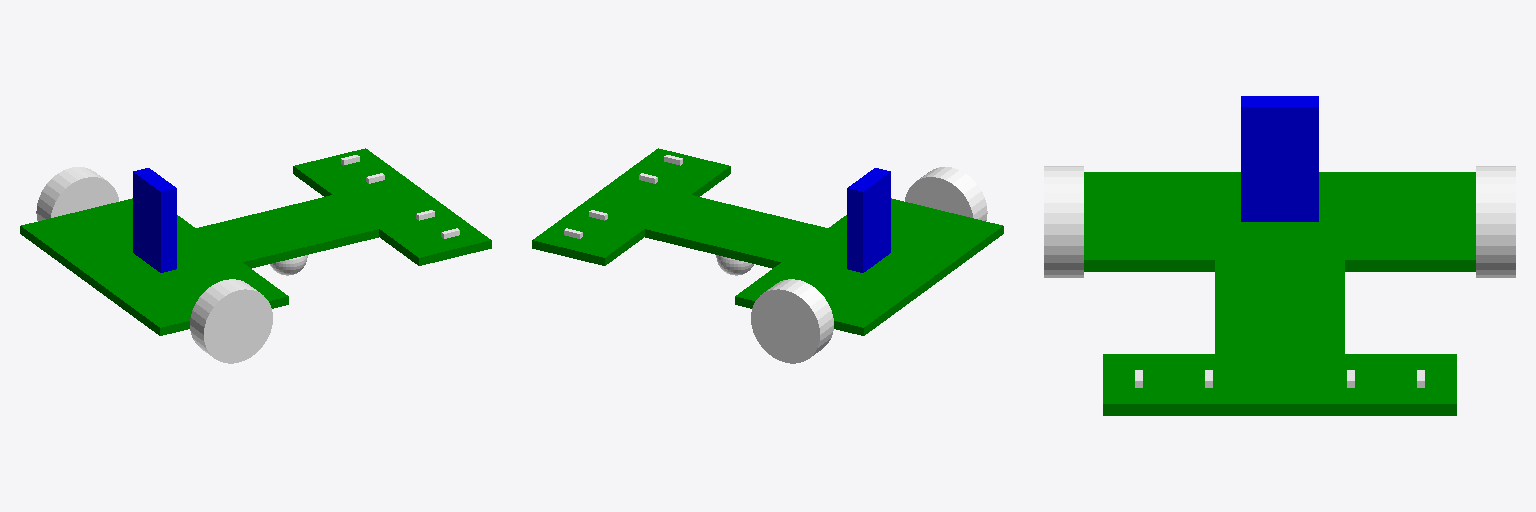
URDF robot description (FLF):
<?xml version="1.0" ?>
<!-- =================================================================================== -->
<!-- |    This document was autogenerated by xacro from [local-path]/line_follower_ws/src/line_follower_robot/urdf/robot.urdf.xacro | -->
<!-- |    EDITING THIS FILE BY HAND IS NOT RECOMMENDED                                 | -->
<!-- =================================================================================== -->
<robot name="FLF">
  <material name="grey">
    <color rgba="0.7 0.7 0.7 1"/>
  </material>
  <material name="green">
    <color rgba="0 0.6 0.0 1"/>
  </material>
  <material name="white">
    <color rgba="1 1 1 1"/>
  </material>
  <!-- Base Footprint Link -->
  <link name="base_footprint"/>
  <!-- Base Link -->
  <link name="base_link">
    <visual>
      <geometry>
        <box size="1.44 2.6999999999999997 0.09"/>
      </geometry>
      <origin rpy="0 0 0" xyz="0 0 0"/>
      <material name="green"/>
    </visual>
    <collision>
      <geometry>
        <box size="1.44 2.6999999999999997 0.09"/>
      </geometry>
      <origin rpy="0 0 0" xyz="0 0 0"/>
    </collision>
    <inertial>
      <mass value="2.0"/>
      <origin rpy="0 0 0" xyz="0 0 0"/>
      <inertia ixx="0.01" ixy="0.0" ixz="0.0" iyy="0.01" iyz="0.0" izz="0.01"/>
    </inertial>
  </link>
  <!-- test -->
  <link name="test_link">
    <visual>
      <geometry>
        <box size="0.18 0.54 0.8999999999999999"/>
      </geometry>
      <material name="blue">
        <color rgba="0 0 1 1"/>
      </material>
    </visual>
  </link>
  <!-- test -->
  <!-- Neck Link -->
  <link name="neck_link">
    <visual>
      <geometry>
        <box size="1.53 0.8999999999999999 0.09"/>
      </geometry>
      <origin rpy="0 0 0" xyz="0 0 0"/>
      <material name="green"/>
    </visual>
    <collision>
      <geometry>
        <box size="1.53 0.8999999999999999 0.09"/>
      </geometry>
      <origin rpy="0 0 0" xyz="0 0 0"/>
    </collision>
    <inertial>
      <mass value="2.0"/>
      <origin rpy="0 0 0" xyz="0 0 0"/>
      <inertia ixx="0.01" ixy="0.0" ixz="0.0" iyy="0.01" iyz="0.0" izz="0.01"/>
    </inertial>
  </link>
  <!-- IR Sensor Link -->
  <link name="ir_link">
    <visual>
      <geometry>
        <box size="0.8099999999999999 2.4299999999999997 0.09"/>
      </geometry>
      <origin rpy="0 0 0" xyz="0 0 0"/>
      <material name="green"/>
    </visual>
    <collision>
      <geometry>
        <box size="0.8099999999999999 2.4299999999999997 0.09"/>
      </geometry>
      <origin rpy="0 0 0" xyz="0 0 0"/>
    </collision>
    <inertial>
      <mass value="2.0"/>
      <origin rpy="0 0 0" xyz="0 0 0"/>
      <inertia ixx="0.01" ixy="0.0" ixz="0.0" iyy="0.01" iyz="0.0" izz="0.01"/>
    </inertial>
  </link>
  <!-- IR Sensor 1 -->
  <link name="ir_sensor_1">
    <visual>
      <geometry>
        <box size="0.18 0.054 0.054"/>
      </geometry>
      <origin rpy="0 0 0" xyz="0.0 0 0"/>
      <material name="white"/>
    </visual>
    <collision>
      <geometry>
        <box size="0.18 0.054 0.054"/>
      </geometry>
      <origin rpy="0 0 0" xyz="0.09 0 0"/>
    </collision>
    <inertial>
      <mass value="0.1"/>
      <origin xyz="0 0 0"/>
      <inertia ixx="0.0001" ixy="0" ixz="0" iyy="0.0001" iyz="0" izz="0.0001"/>
    </inertial>
  </link>
  <link name="ir_sensor_2">
    <visual>
      <geometry>
        <box size="0.18 0.054 0.054"/>
      </geometry>
      <origin rpy="0 0 0" xyz="0.0 0 0.09"/>
      <material name="white"/>
    </visual>
    <collision>
      <geometry>
        <box size="0.18 0.054 0.054"/>
      </geometry>
      <origin rpy="0 0 0" xyz="0 0 0"/>
    </collision>
    <inertial>
      <mass value="0.1"/>
      <origin xyz="0 0 0"/>
      <inertia ixx="0.0001" ixy="0" ixz="0" iyy="0.0001" iyz="0" izz="0.0001"/>
    </inertial>
  </link>
  <link name="ir_sensor_3">
    <visual>
      <geometry>
        <box size="0.18 0.054 0.054"/>
      </geometry>
      <origin rpy="0 0 0" xyz="0.0 0 0.09"/>
      <material name="white"/>
    </visual>
    <collision>
      <geometry>
        <box size="0.18 0.054 0.054"/>
      </geometry>
      <origin rpy="0 0 0" xyz="0 0 0"/>
    </collision>
    <inertial>
      <mass value="0.1"/>
      <origin xyz="0 0 0"/>
      <inertia ixx="0.0001" ixy="0" ixz="0" iyy="0.0001" iyz="0" izz="0.0001"/>
    </inertial>
  </link>
  <link name="ir_sensor_4">
    <visual>
      <geometry>
        <box size="0.18 0.054 0.054"/>
      </geometry>
      <origin rpy="0 0 0" xyz="0.0 0 0.09"/>
      <material name="white"/>
    </visual>
    <collision>
      <geometry>
        <box size="0.18 0.054 0.054"/>
      </geometry>
      <origin rpy="0 0 0" xyz="0 0 0"/>
    </collision>
    <inertial>
      <mass value="0.1"/>
      <origin xyz="0 0 0"/>
      <inertia ixx="0.0001" ixy="0" ixz="0" iyy="0.0001" iyz="0" izz="0.0001"/>
    </inertial>
  </link>
  <link name="ir_sensor_5">
    <visual>
      <geometry>
        <box size="0.18 0.054 0.054"/>
      </geometry>
      <origin rpy="0 0 0" xyz="0.0 0 0.09"/>
      <material name="white"/>
    </visual>
    <collision>
      <geometry>
        <box size="0.18 0.054 0.054"/>
      </geometry>
      <origin rpy="0 0 0" xyz="0 0 0"/>
    </collision>
    <inertial>
      <mass value="0.1"/>
      <origin xyz="0 0 0"/>
      <inertia ixx="0.0001" ixy="0" ixz="0" iyy="0.0001" iyz="0" izz="0.0001"/>
    </inertial>
  </link>
  <!-- Left Wheel -->
  <link name="left_wheel">
    <visual>
      <geometry>
        <cylinder length="0.27" radius="0.38699999999999996"/>
      </geometry>
      <origin rpy="0 0 0" xyz="0 0 0"/>
      <material name="white"/>
    </visual>
    <collision>
      <geometry>
        <cylinder length="0.27" radius="0.38699999999999996"/>
      </geometry>
      <origin rpy="0 0 0" xyz="0 0 0"/>
    </collision>
    <inertial>
      <mass value="0.1"/>
      <origin rpy="0 0 0" xyz="0 0 0"/>
      <inertia ixx="0.00001" ixy="0.0" ixz="0.0" iyy="0.00001" iyz="0.0" izz="0.00002"/>
    </inertial>
  </link>
  <!-- Right Wheel -->
  <link name="right_wheel">
    <visual>
      <geometry>
        <cylinder length="0.27" radius="0.38699999999999996"/>
      </geometry>
      <origin rpy="0 0 0" xyz="0 0 0"/>
      <material name="white"/>
    </visual>
    <collision>
      <geometry>
        <cylinder length="0.27" radius="0.38699999999999996"/>
      </geometry>
      <origin rpy="0 0 0" xyz="0 0 0"/>
    </collision>
    <inertial>
      <mass value="0.1"/>
      <origin rpy="0 0 0" xyz="0 0 0"/>
      <inertia ixx="0.00001" ixy="0.0" ixz="0.0" iyy="0.00001" iyz="0.0" izz="0.00002"/>
    </inertial>
  </link>
  <link name="caster_wheel">
    <visual>
      <geometry>
        <sphere radius="0.19349999999999998"/>
        <!-- Radius = 1.075, so diameter = 2.15 -->
      </geometry>
      <material name="white"/>
    </visual>
    <collision>
      <geometry>
        <sphere radius="0.19349999999999998"/>
      </geometry>
    </collision>
    <inertial>
      <mass value="0.0"/>
      <origin xyz="0 0 0"/>
      <inertia ixx="0.001" ixy="0" ixz="0" iyy="0.001" iyz="0" izz="0.001"/>
    </inertial>
  </link>
  <!-- Joints -->
  <joint name="base_footprint_joint" type="fixed">
    <parent link="base_footprint"/>
    <child link="base_link"/>
    <origin rpy="0 0 0" xyz="0 0 0.38699999999999996"/>
  </joint>
  <joint name="base_neck_joint" type="fixed">
    <parent link="base_link"/>
    <child link="neck_link"/>
    <origin rpy="0 0 0" xyz="1.4849999999999999 0 0"/>
  </joint>
  <joint name="base_ir_joint" type="fixed">
    <parent link="base_link"/>
    <child link="ir_link"/>
    <origin rpy="0 0 0" xyz="2.655 0 0"/>
  </joint>
  <joint name="base_left_wheel_joint" type="continuous">
    <parent link="base_link"/>
    <child link="left_wheel"/>
    <origin rpy="-1.5707963267948966 0 0" xyz="0 1.4849999999999999 0"/>
    <axis xyz="0 0 1"/>
    <dynamics damping="0.5" friction="0.5"/>
  </joint>
  <joint name="base_right_wheel_joint" type="continuous">
    <parent link="base_link"/>
    <child link="right_wheel"/>
    <origin rpy="-1.5707963267948966 0 0" xyz="0 -1.4849999999999999 0"/>
    <axis xyz="0 0 1"/>
    <dynamics damping="0.5" friction="0.5"/>
  </joint>
  <!-- Joint to Attach Caster to Neck -->
  <joint name="caster_joint" type="fixed">
    <parent link="neck_link"/>
    <child link="caster_wheel"/>
    <origin rpy="0 0 0" xyz="0 0 -0.243"/>
    <!-- Places caster exactly on the ground -->
  </joint>
  <joint name="ir_sensor_1_joint" type="fixed">
    <parent link="ir_link"/>
    <child link="ir_sensor_1"/>
    <origin rpy="0 0 0" xyz="0.09 0 -0.072"/>
  </joint>
  <joint name="ir_sensor_2_joint" type="fixed">
    <parent link="ir_link"/>
    <child link="ir_sensor_2"/>
    <origin rpy="0 0 0" xyz="0.09 0.486 0.0"/>
  </joint>
  <joint name="ir_sensor_3_joint" type="fixed">
    <parent link="ir_link"/>
    <child link="ir_sensor_3"/>
    <origin rpy="0 0 0" xyz="0.09 0.972 0.0"/>
  </joint>
  <joint name="ir_sensor_4_joint" type="fixed">
    <parent link="ir_link"/>
    <child link="ir_sensor_4"/>
    <origin rpy="0 0 0" xyz="0.09 -0.486 0.0"/>
  </joint>
  <joint name="ir_sensor_5_joint" type="fixed">
    <parent link="ir_link"/>
    <child link="ir_sensor_5"/>
    <origin rpy="0 0 0" xyz="0.09 -0.972 0.0"/>
  </joint>
  <!--test joiont -->
  <joint name="test_joint" type="fixed">
    <parent link="base_link"/>
    <child link="test_link"/>
    <origin rpy="0 0 0" xyz="0 0 0.46259999999999996"/>
  </joint>
  <!--test joiont -->
  <!-- Gazebo specific elements -->
  <gazebo reference="left_wheel">
    <mu1>1.0</mu1>
    <mu2>1.0</mu2>
    <kp>1000.0</kp>
    <kd>100.0</kd>
  </gazebo>
  <gazebo reference="right_wheel">
    <mu1>1.0</mu1>
    <mu2>1.0</mu2>
    <kp>1000.0</kp>
    <kd>100.0</kd>
  </gazebo>
  <!-- IR sensor plugins -->
  <!--test pugin-->
  <gazebo reference="test_link">
    <sensor name="test_sensor" type="ray">
      <update_rate>30</update_rate>
      <visualize>true</visualize>
      <ray>
        <scan>
          <horizontal>
            <samples>10</samples>
            <resolution>1</resolution>
            <min_angle>-0.1</min_angle>
            <max_angle>0.1</max_angle>
          </horizontal>
        </scan>
        <range>
          <min>0.01</min>
          <max>1.0</max>
          <resolution>0.01</resolution>
        </range>
      </ray>
      <plugin filename="libgazebo_ros_laser.so" name="sensor_plugin">
        <topicName>test_sensor</topicName>
        <frameName>sensor_link</frameName>
      </plugin>
    </sensor>
  </gazebo>
  <!--test pugin-->
  <!--
<gazebo reference="ir_sensor_1">
  <sensor type="ray" name="ir_sensor_1">
    <update_rate>30</update_rate>
    <ray>
      <scan>
        <horizontal>
          <samples>1</samples>
          <resolution>1</resolution>
          <min_angle>0</min_angle>
          <max_angle>0</max_angle>
        </horizontal>
      </scan>
      <range>
        <min>0.01</min>
        <max>0.1</max>
        <resolution>0.01</resolution>
      </range>
    </ray>
    <plugin name="ir_sensor_1_plugin" filename="libgazebo_ros_ray_sensor.so">
      <ros>
        <namespace>/</namespace>

          <remapping>~/out:=/ir_sensor_1</remapping>

      </ros>
      <output_type>sensor_msgs/Range</output_type>
      <radiation_type>infrared</radiation_type>
      <frame_name>ir_sensor_1</frame_name>
      <min_intensity>0.0</min_intensity>
    </plugin>
  </sensor>
</gazebo>
<gazebo reference="ir_sensor_2">
  <sensor type="ray" name="ir_sensor_2">
    <update_rate>30</update_rate>
    <ray>
      <scan>
        <horizontal>
          <samples>1</samples>
          <resolution>1</resolution>
          <min_angle>0</min_angle>
          <max_angle>0</max_angle>
        </horizontal>
      </scan>
      <range>
        <min>0.01</min>
        <max>0.1</max>
        <resolution>0.01</resolution>
      </range>
    </ray>
    <plugin name="ir_sensor_2_plugin" filename="libgazebo_ros_ray_sensor.so">
      <ros>
        <namespace>/</namespace>

          <remapping>~/out:=/ir_sensor_2</remapping>

      </ros>
      <output_type>sensor_msgs/Range</output_type>
      <radiation_type>infrared</radiation_type>
      <frame_name>ir_sensor_2</frame_name>
      <min_intensity>0.0</min_intensity>
    </plugin>
  </sensor>
</gazebo>
<gazebo reference="ir_sensor_3">
  <sensor type="ray" name="ir_sensor_3">
    <update_rate>30</update_rate>
    <ray>
      <scan>
        <horizontal>
          <samples>1</samples>
          <resolution>1</resolution>
          <min_angle>0</min_angle>
          <max_angle>0</max_angle>
        </horizontal>
      </scan>
      <range>
        <min>0.01</min>
        <max>0.1</max>
        <resolution>0.01</resolution>
      </range>
    </ray>
    <plugin name="ir_sensor_3_plugin" filename="libgazebo_ros_ray_sensor.so">
      <ros>
        <namespace>/</namespace>

          <remapping>~/out:=/ir_sensor_3</remapping>

      </ros>
      <output_type>sensor_msgs/Range</output_type>
      <radiation_type>infrared</radiation_type>
      <frame_name>ir_sensor_3</frame_name>
      <min_intensity>0.0</min_intensity>
    </plugin>
  </sensor>
</gazebo>
<gazebo reference="ir_sensor_4">
  <sensor type="ray" name="ir_sensor_4">
    <update_rate>30</update_rate>
    <ray>
      <scan>
        <horizontal>
          <samples>1</samples>
          <resolution>1</resolution>
          <min_angle>0</min_angle>
          <max_angle>0</max_angle>
        </horizontal>
      </scan>
      <range>
        <min>0.01</min>
        <max>0.1</max>
        <resolution>0.01</resolution>
      </range>
    </ray>
    <plugin name="ir_sensor_4_plugin" filename="libgazebo_ros_ray_sensor.so">
      <ros>
        <namespace>/</namespace>

          <remapping>~/out:=/ir_sensor_4</remapping>

      </ros>
      <output_type>sensor_msgs/Range</output_type>
      <radiation_type>infrared</radiation_type>
      <frame_name>ir_sensor_4</frame_name>
      <min_intensity>0.0</min_intensity>
    </plugin>
  </sensor>
</gazebo>
<gazebo reference="ir_sensor_5">
  <sensor type="ray" name="ir_sensor_5">
    <update_rate>30</update_rate>
    <ray>
      <scan>
        <horizontal>
          <samples>1</samples>
          <resolution>1</resolution>
          <min_angle>0</min_angle>
          <max_angle>0</max_angle>
        </horizontal>
      </scan>
      <range>
        <min>0.01</min>
        <max>0.1</max>
        <resolution>0.01</resolution>
      </range>
    </ray>
    <plugin name="ir_sensor_5_plugin" filename="libgazebo_ros_ray_sensor.so">
      <ros>
        <namespace>/</namespace>

          <remapping>~/out:=/ir_sensor_5</remapping>

      </ros>
      <output_type>sensor_msgs/Range</output_type>
      <radiation_type>infrared</radiation_type>
      <frame_name>ir_sensor_5</frame_name>
      <min_intensity>0.0</min_intensity>
    </plugin>
  </sensor>
</gazebo>
<gazebo>
  <plugin name="differential_drive_controller" filename="libgazebo_ros_diff_drive.so">
    <update_rate>30</update_rate>
    <left_joint>base_left_wheel_joint</left_joint>
    <right_joint>base_right_wheel_joint</right_joint>
    <wheel_separation>${8.25 * 2 * scale}</wheel_separation>
    <wheel_diameter>${2.15 * 2 * scale}</wheel_diameter>
    <max_wheel_acceleration>1.0</max_wheel_acceleration>
    <max_wheel_torque>20</max_wheel_torque>
    <command_topic>cmd_vel</command_topic>
    <publish_odom>true</publish_odom>
    <publish_odom_tf>true</publish_odom_tf>
    <odometry_topic>odom</odometry_topic>
    <odometry_frame>odom</odometry_frame>
    <robot_base_frame>base_link</robot_base_frame>
  </plugin>
</gazebo>
-->
</robot>

--- Facts derived from the render (not from the file) ---
The picture shows the robot from 3 angles, left to right: view 1: azimuth 30°, elevation 25°; view 2: azimuth 150°, elevation 25°; view 3: azimuth 270°, elevation 25°; orthographic projection.
Model FLF with 13 links and 12 joints (2 continuous, 10 fixed), rooted at base_footprint, posed every joint at zero.
Links seen in each view (by area): view 1: base_link, ir_link, neck_link, right_wheel, test_link, left_wheel; view 2: base_link, ir_link, neck_link, left_wheel, test_link, right_wheel; view 3: base_link, ir_link, neck_link, test_link, left_wheel, right_wheel.
Link boxes in pixels (box(x1,y1,x2,y2)): base_link: box(20, 198, 288, 335); ir_link: box(293, 148, 491, 265); neck_link: box(196, 195, 378, 268); right_wheel: box(190, 279, 272, 363); test_link: box(133, 168, 176, 272); left_wheel: box(36, 167, 118, 220); base_link: box(735, 198, 1003, 335); ir_link: box(532, 148, 730, 265); neck_link: box(645, 195, 827, 268); left_wheel: box(751, 279, 833, 363); test_link: box(847, 168, 890, 272); right_wheel: box(905, 167, 987, 220); base_link: box(1084, 172, 1475, 271); ir_link: box(1103, 354, 1456, 415); neck_link: box(1215, 260, 1344, 353); test_link: box(1241, 96, 1318, 221); left_wheel: box(1476, 166, 1515, 277); right_wheel: box(1044, 166, 1083, 277).
Bounding box of the posed robot: 3.78 × 3.24 × 1.35 m (x, y, z).
Geometry: primitives only (box / cylinder / sphere), no mesh files.
